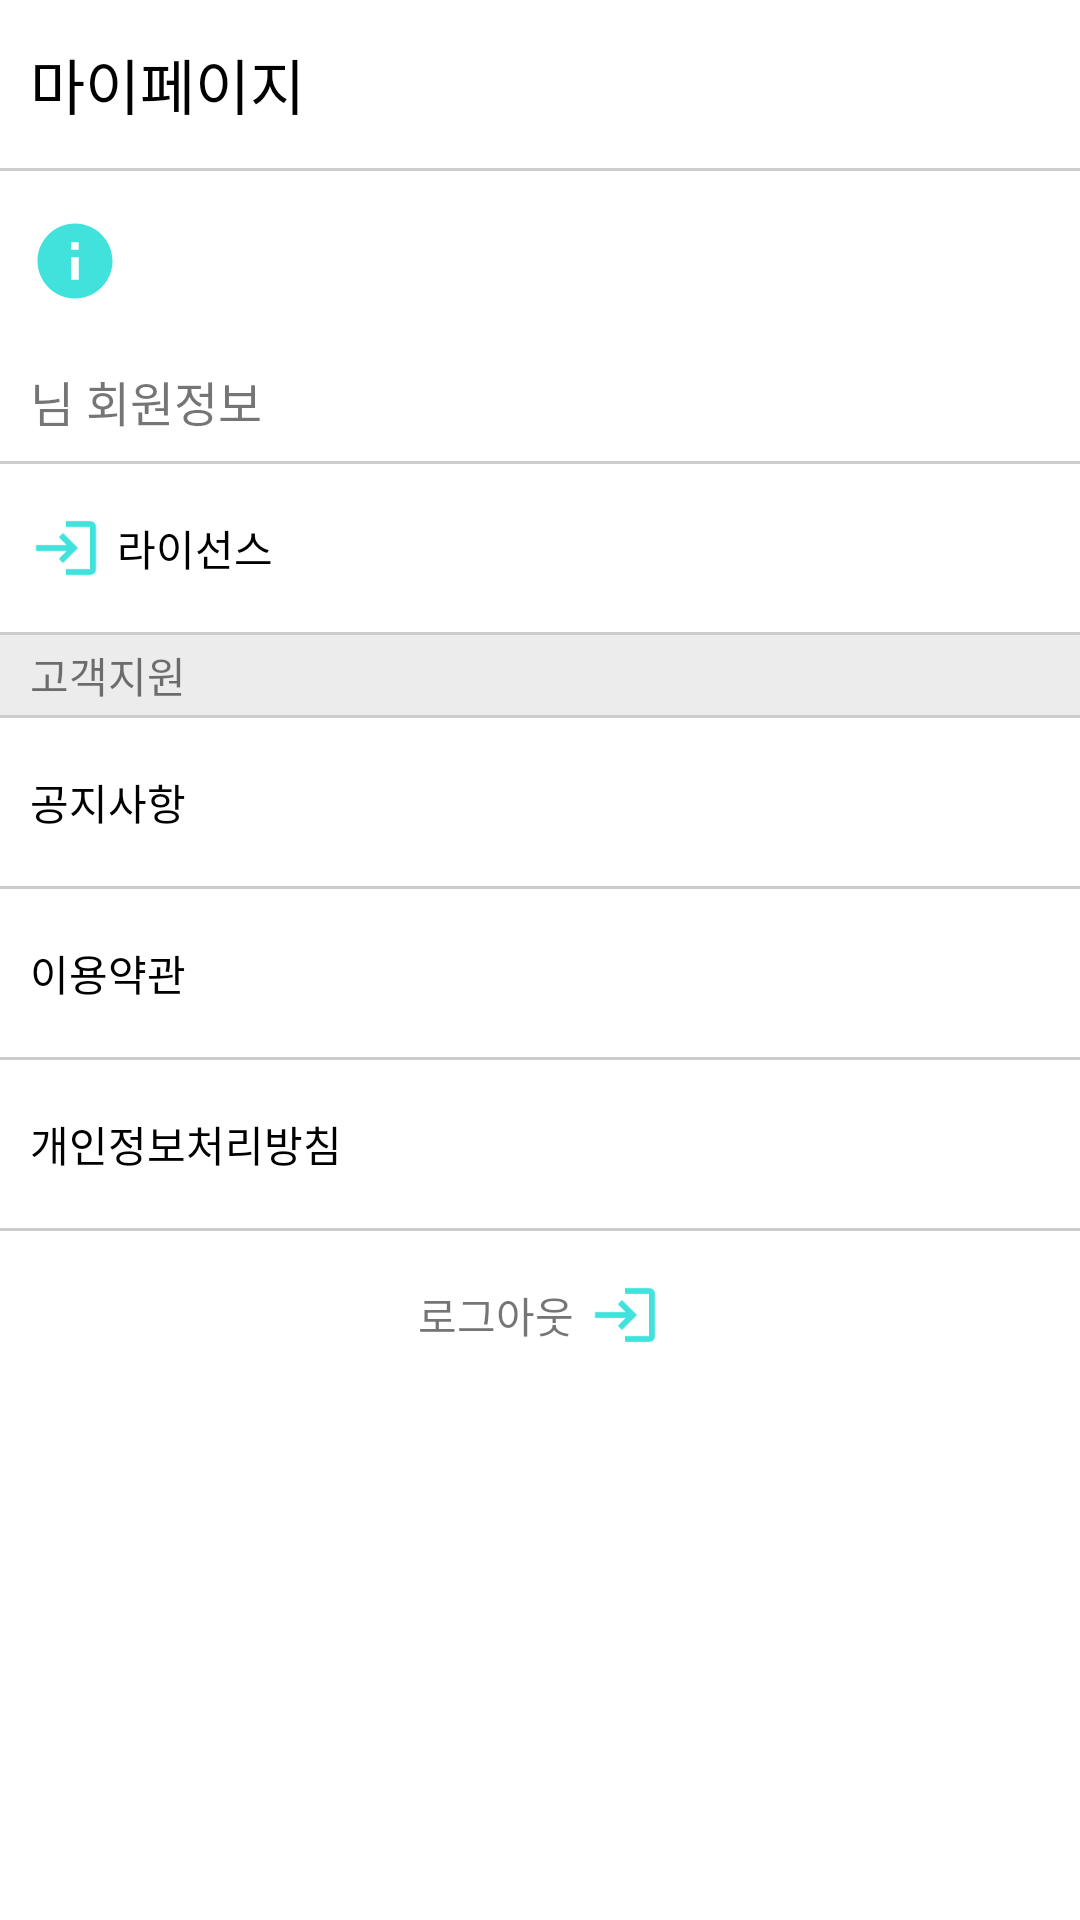

Screen size 1080*1920. Icon name, then its center in pixels as point (x, y):
info: point (75, 261)
login: point (66, 548), point (625, 1315)
